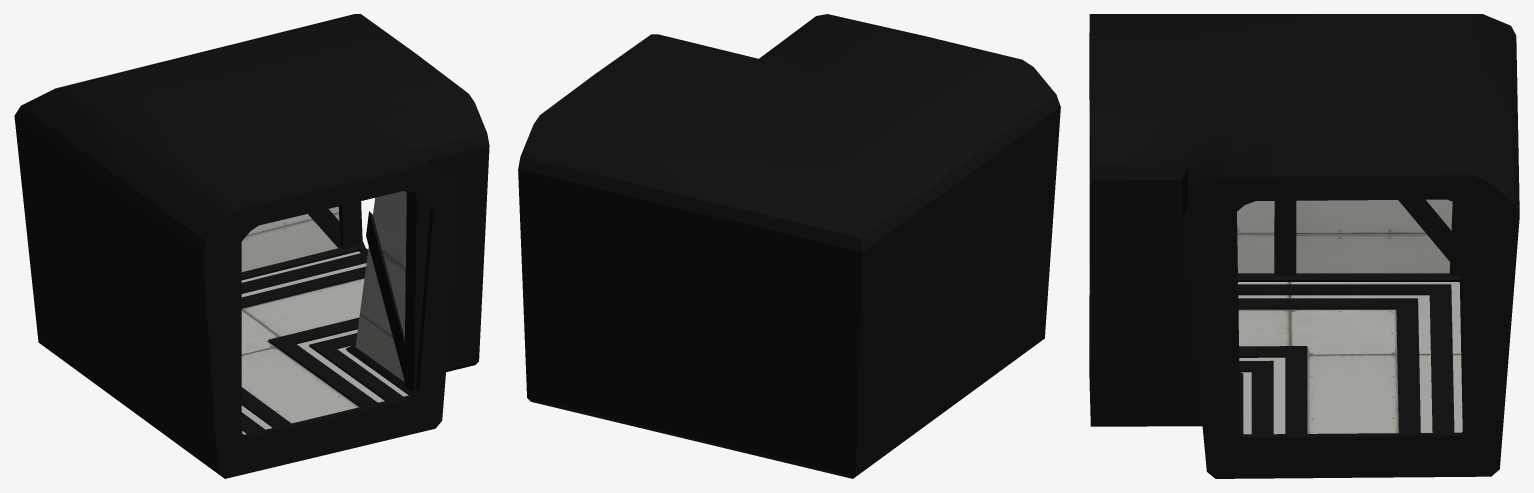
File: Tunnel_vent_corner01.FBX
3 renders of one model, left to right at view 1: azimuth 30°, elevation 25°; view 2: azimuth 150°, elevation 25°; view 3: azimuth 270°, elevation 25°, orthographic. The views are drawn at different scales.
Visible parts, largest first — view 1: Tunnel03; view 2: Tunnel03; view 3: Tunnel03.
Boxes of the visible parts, <box> form: Tunnel03: <box>14,14,489,478</box>; Tunnel03: <box>518,14,1060,478</box>; Tunnel03: <box>1089,14,1519,478</box>.
Size of the model in its own units: 361 by 282 by 362.
